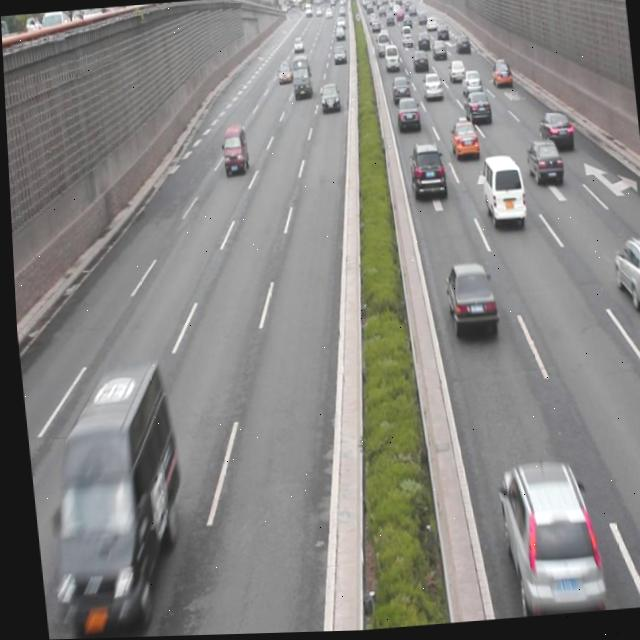car: (489, 460, 600, 621), (439, 262, 495, 339), (402, 136, 444, 203), (606, 236, 640, 315), (535, 113, 573, 157), (524, 143, 559, 189), (446, 120, 478, 163), (394, 95, 418, 134), (462, 93, 488, 125)
truck: (35, 368, 189, 628), (476, 159, 523, 230), (218, 128, 249, 178)
